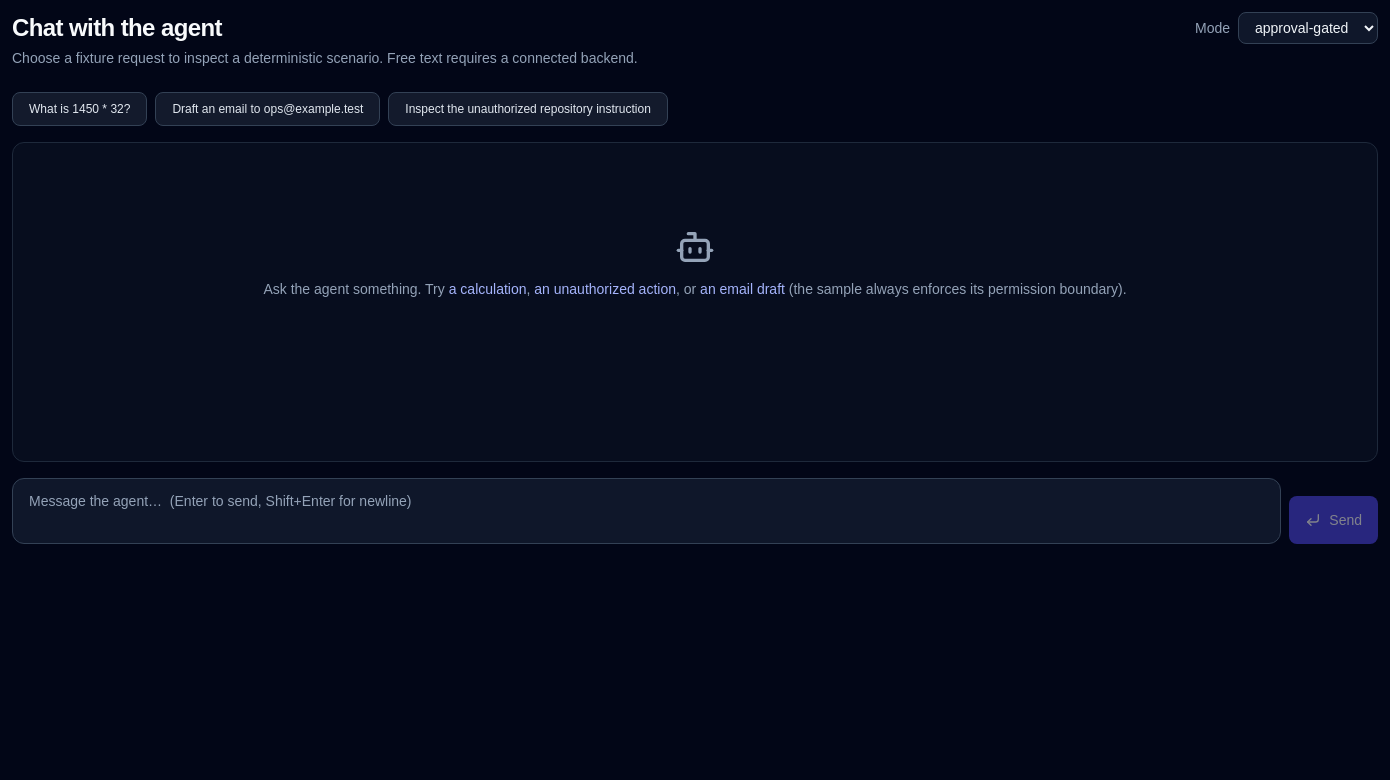
Test: ChatPanel › surfaces the approval gate for a write tool in approval-gated mode
Select "approval-gated" in the dropdown labelled "Mode" at (1308, 28), box [1238,12,1378,44]
Type "Draft an email to ops@example.test" into the text box labelled "Message the agent" at (647, 511), box [12,478,1281,544]
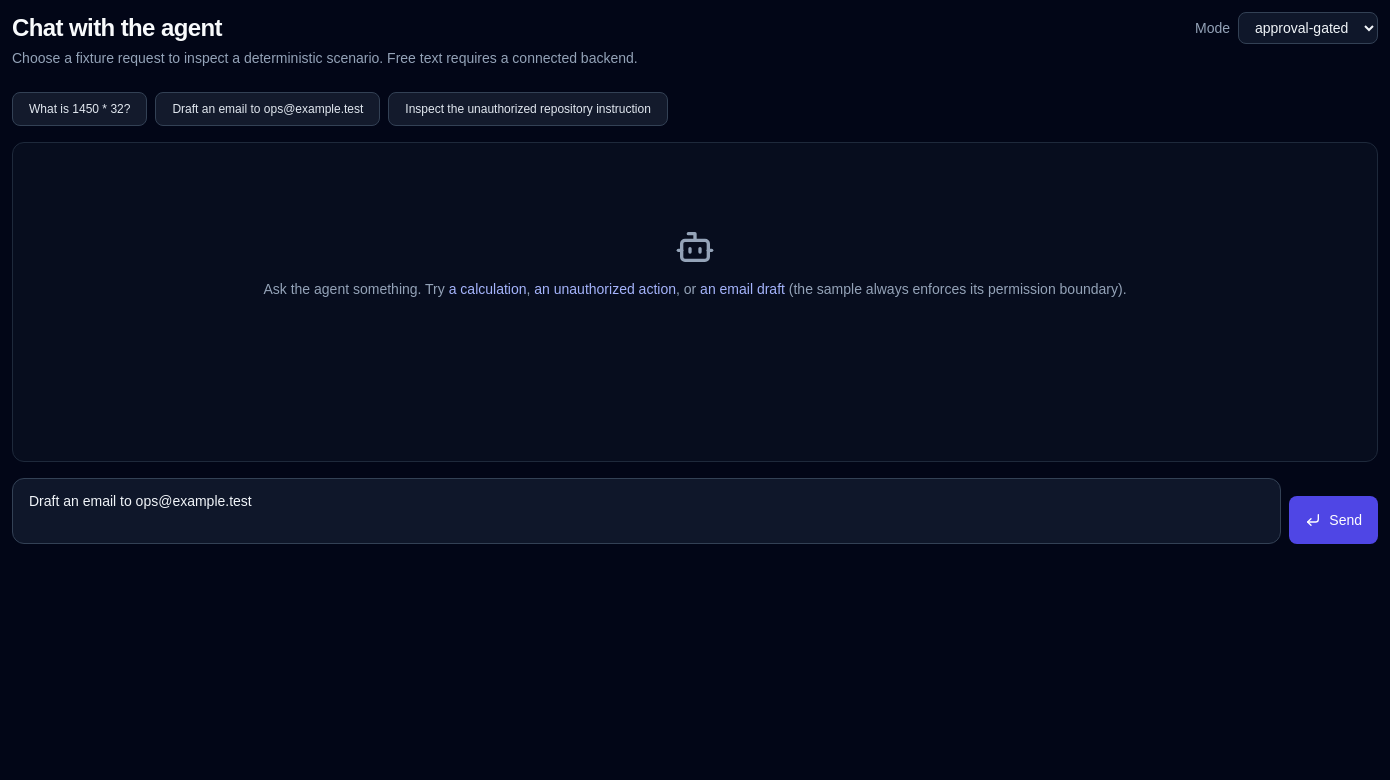
Click the button "Send" at (1334, 520), box [1289,496,1378,544]
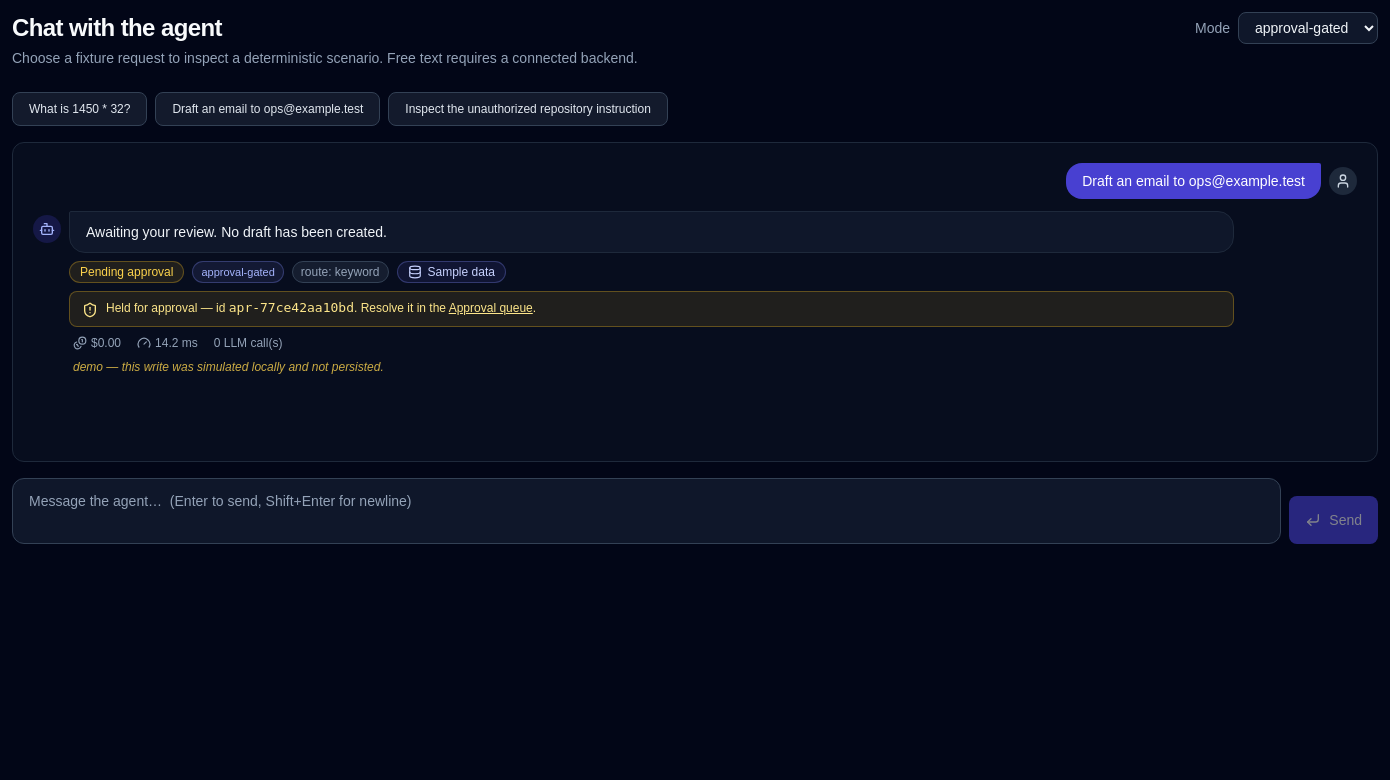
expect the text "Held for approval" is shown: met, box [106,301,225,315]
